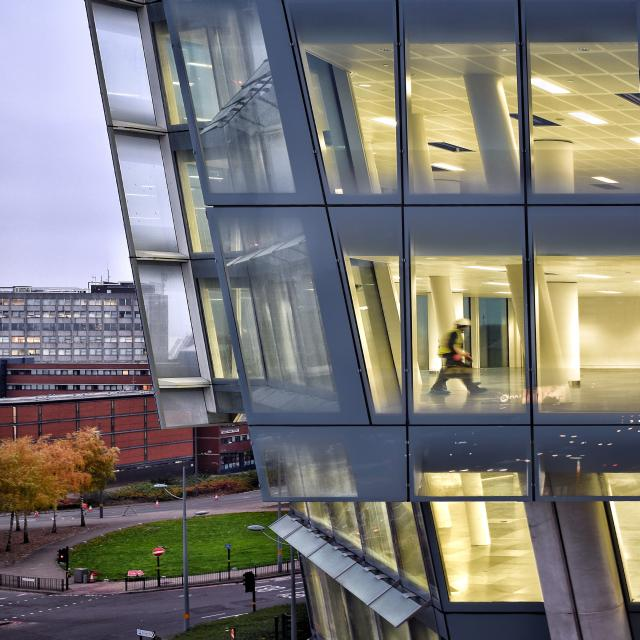helmet: (450, 308, 476, 334)
shoes: (456, 380, 504, 402), (428, 384, 460, 400)
vest: (435, 321, 477, 360)
